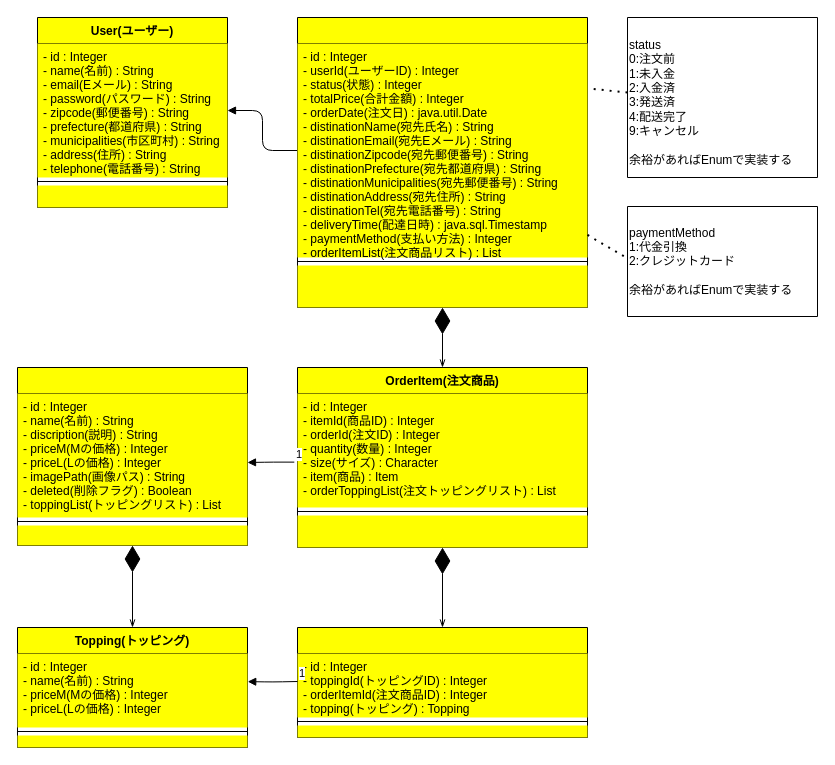
The diagram is 835 pixels wide and 765 high, and some of its shapes have lost their labels. Here are the shapes that lost their labels. From the top down, the box of each, then its label:
(296, 16, 588, 308): Order(注文)
(297, 265, 587, 307): + getTax():int + getCalcTotalPrice():int
(16, 366, 248, 546): Item(商品)
(297, 515, 587, 547): + getCalcSubTotalPrice():int
(296, 626, 588, 738): OrderTopping(注文トッピング)
